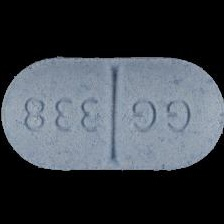51655-095: (0, 0, 224, 224)
